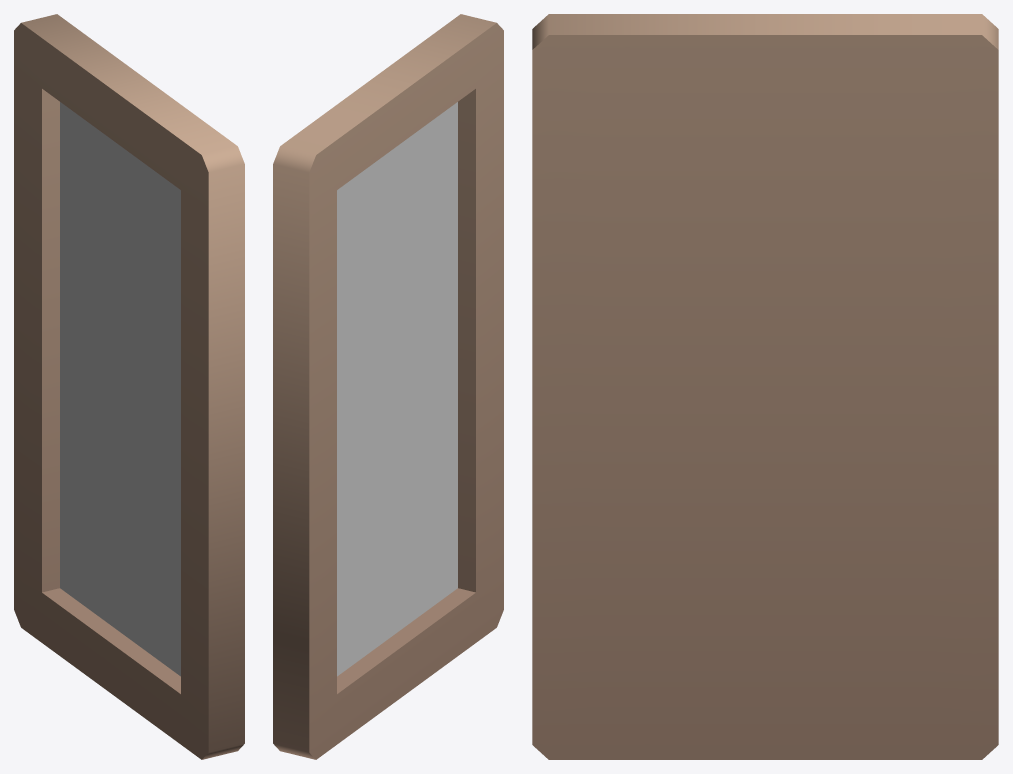
Rendered from art-frame-thick-portrait (%wall).glb.
The picture shows the model from 3 angles, left to right: view 1: azimuth 30°, elevation 25°; view 2: azimuth 150°, elevation 25°; view 3: azimuth 270°, elevation 25°; orthographic projection. The views are drawn at different scales.
Parts seen in each view (by area): view 1: art-frame-thick-portrait (%wall); view 2: art-frame-thick-portrait (%wall); view 3: art-frame-thick-portrait (%wall).
Boxes of the visible parts, <box> form: art-frame-thick-portrait (%wall): <box>14,14,244,759</box>; art-frame-thick-portrait (%wall): <box>273,14,503,759</box>; art-frame-thick-portrait (%wall): <box>532,14,998,759</box>.
Size of the model in its own units: 0.075 by 1.2 by 0.7.
